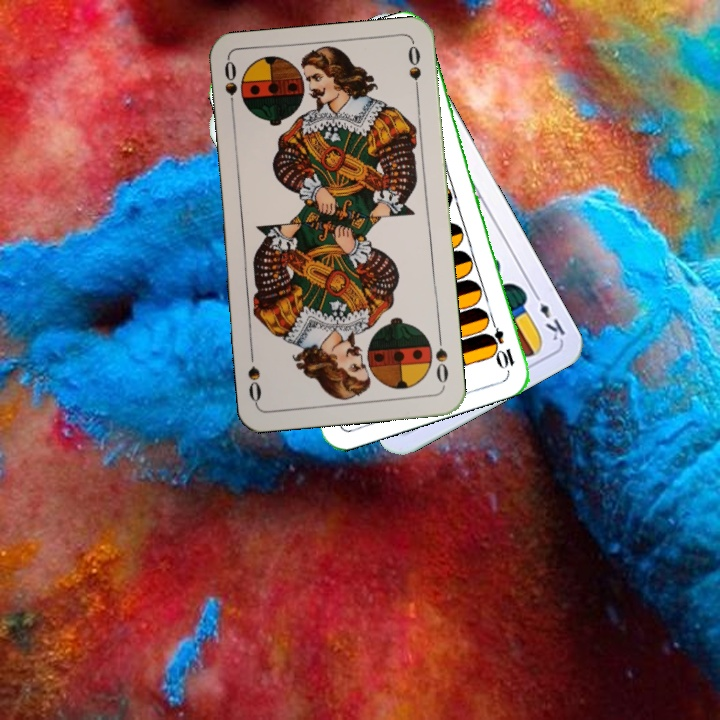E10: (484, 313, 517, 371)
EK: (528, 287, 568, 344)
SO: (220, 57, 240, 117), (431, 330, 451, 386)
